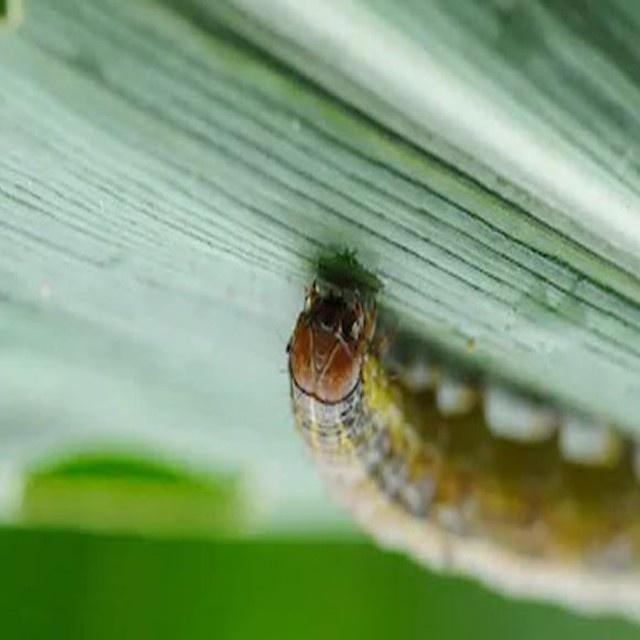gusano_cogollero: (273, 294, 640, 598)
